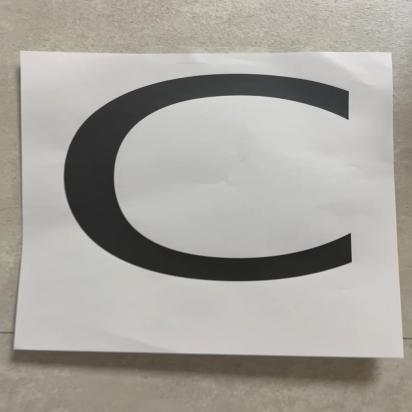seat: (28, 55, 406, 357)
